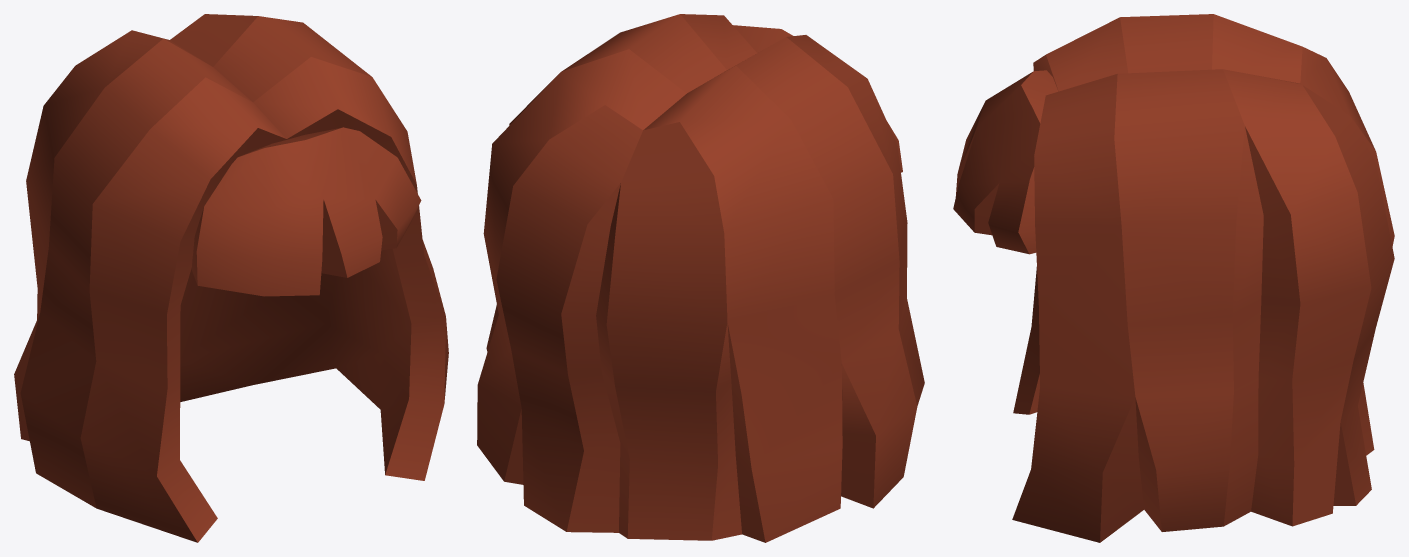
File: Female_Hairs_07_v3.fbx
The picture shows the model from 3 angles, left to right: view 1: azimuth 30°, elevation 25°; view 2: azimuth 150°, elevation 25°; view 3: azimuth 270°, elevation 25°; orthographic projection. The views are drawn at different scales.
Parts seen in each view (by area): view 1: Female_Hairs_07_v3; view 2: Female_Hairs_07_v3; view 3: Female_Hairs_07_v3.
Part boxes in pixels (x1,y1,x2,y2): Female_Hairs_07_v3: (14,14,448,542); Female_Hairs_07_v3: (477,14,924,542); Female_Hairs_07_v3: (953,14,1394,542).
Bounding box in the file's own units: 67.03 × 70.64 × 64.57.
